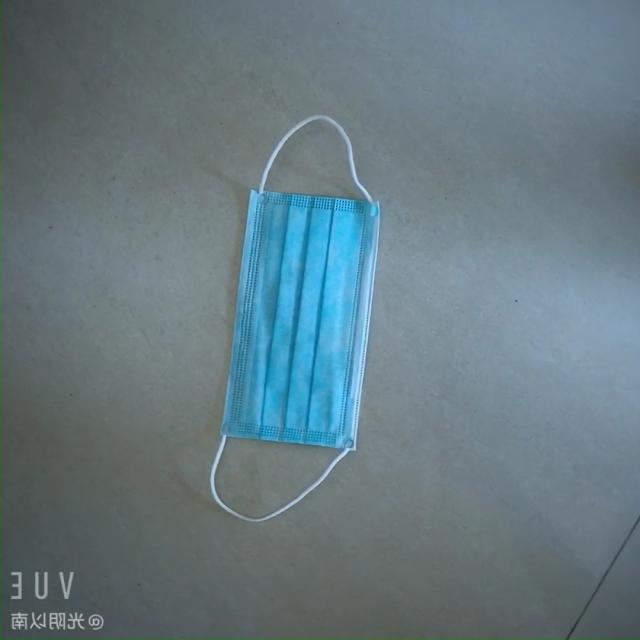face mask: (216, 143, 390, 471)
